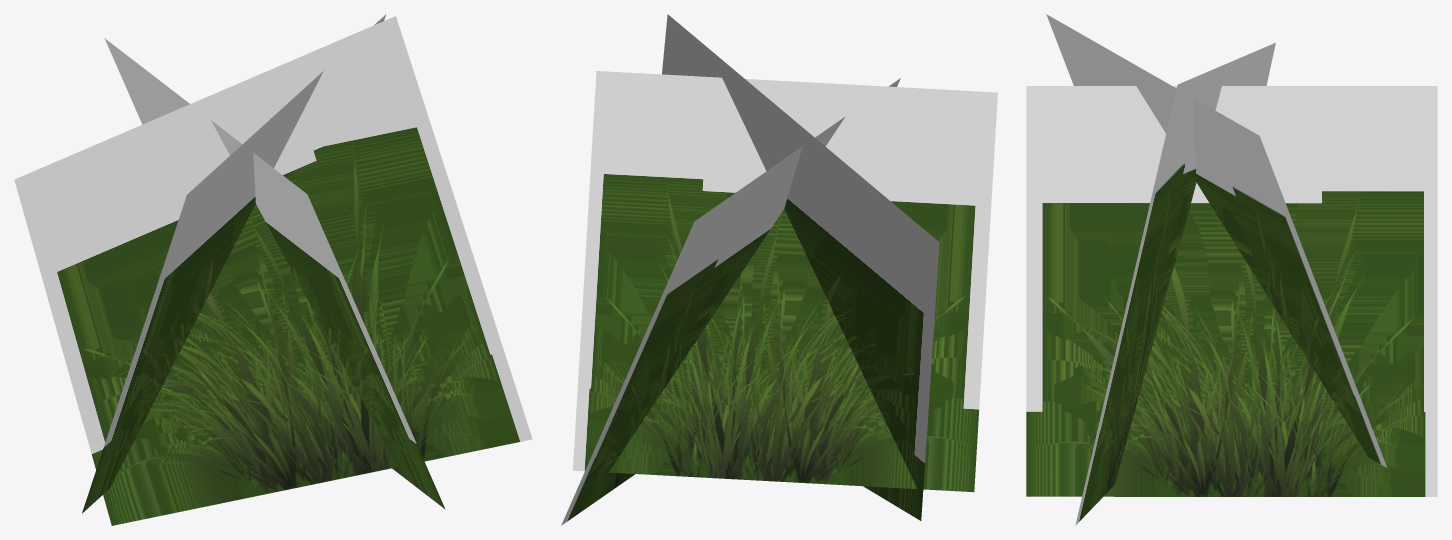
The model's file is Grass_Model.fbx.
The picture shows the model from 3 angles, left to right: view 1: azimuth 30°, elevation 25°; view 2: azimuth 150°, elevation 25°; view 3: azimuth 270°, elevation 25°; orthographic projection. The views are drawn at different scales.
Visible parts, largest first — view 1: Grass_Blender.002; view 2: Grass_Blender.002; view 3: Grass_Blender.002.
Part boxes in pixels (bbox=[...]): Grass_Blender.002: bbox=[14, 14, 532, 525]; Grass_Blender.002: bbox=[561, 14, 997, 525]; Grass_Blender.002: bbox=[1026, 14, 1437, 525].
Bounding box in the file's own units: 115 × 119 × 99.99.
1 material, 1 textured.
